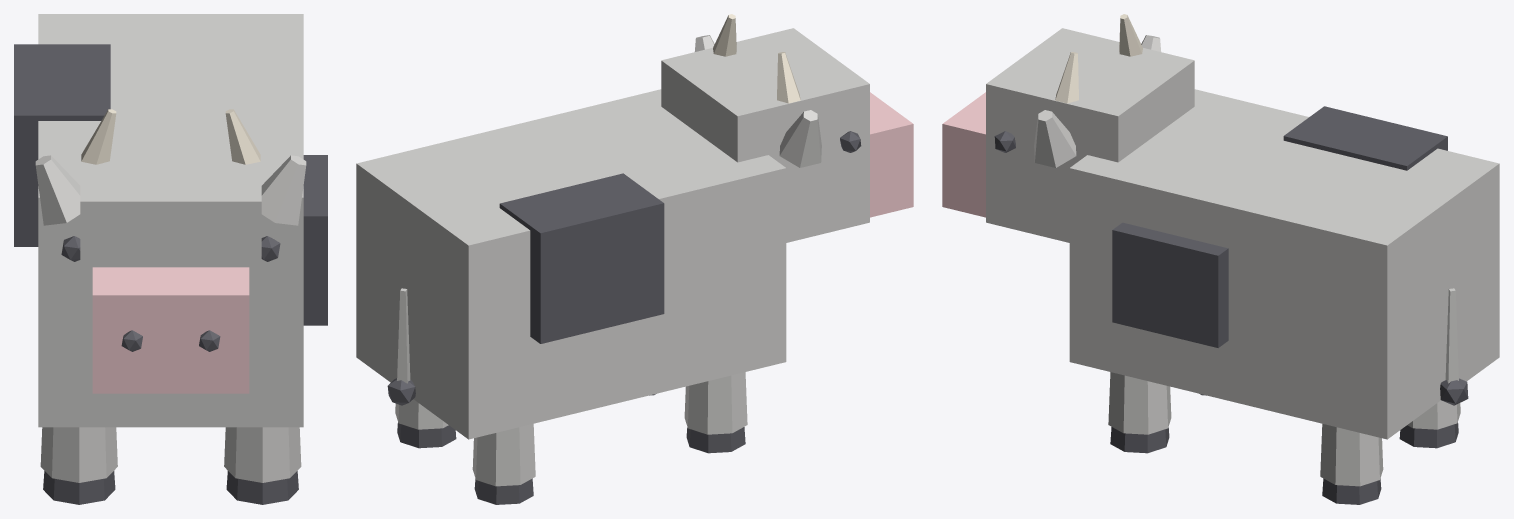
Rendered from vaca.glb.
The picture shows the model from 3 angles, left to right: view 1: azimuth 30°, elevation 25°; view 2: azimuth 150°, elevation 25°; view 3: azimuth 270°, elevation 25°; orthographic projection. The views are drawn at different scales.
Parts seen in each view (by area): view 1: Vaca; view 2: Vaca; view 3: Vaca.
Boxes of the visible parts, x1,y1,x2,y2 form: Vaca: (14, 14, 327, 504); Vaca: (356, 14, 913, 504); Vaca: (942, 14, 1499, 504).
Size of the model in its own units: 2.08 by 1.94 by 2.73.
